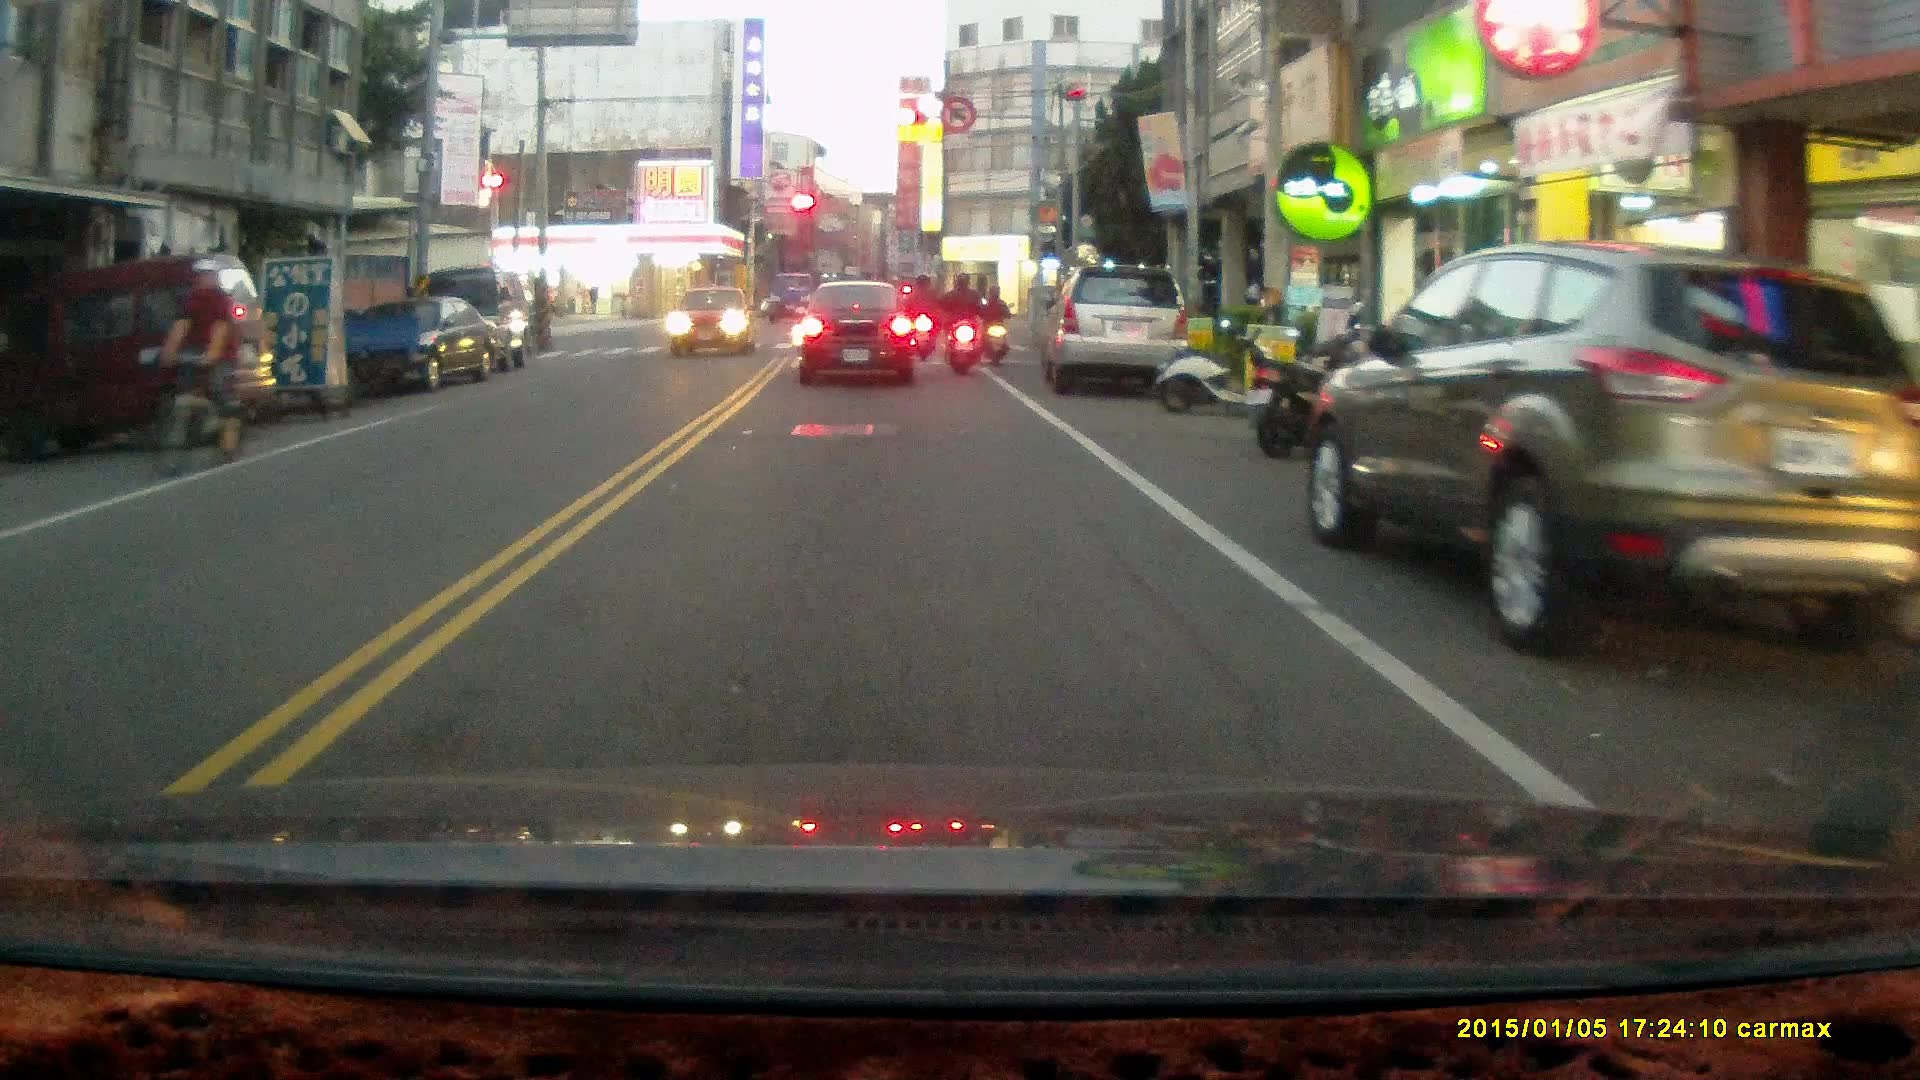rider: (149, 257, 249, 484), (939, 271, 987, 377), (903, 273, 939, 365), (979, 282, 1010, 366)
vehicle: (1313, 237, 1911, 654), (1, 257, 280, 456), (1040, 263, 1194, 402), (336, 295, 507, 396), (802, 281, 925, 389), (419, 263, 529, 375), (671, 284, 758, 357)
